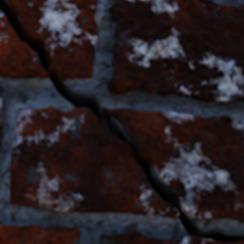brick: (109, 0, 243, 102), (102, 230, 243, 243), (0, 224, 79, 243), (0, 98, 3, 147)
broken_brick: (10, 108, 178, 217), (104, 109, 243, 220), (6, 0, 98, 81), (0, 11, 49, 78)
crack: (0, 0, 243, 241), (22, 139, 35, 150)
